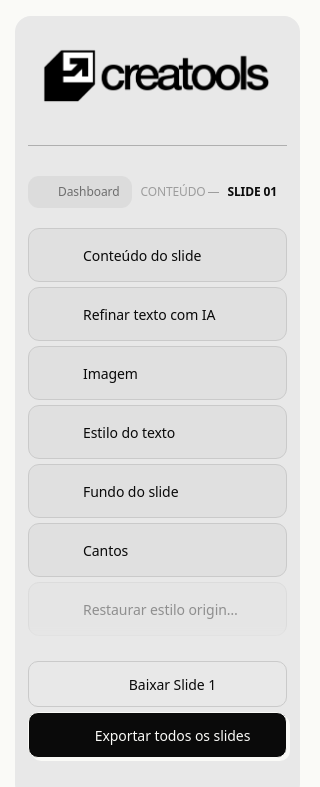
Test: TEMPLATE 1 — painel de imagem › o botão de gerar com IA continua lá mesmo sem imagem
Click the button "Imagem" at (158, 373), box x1=29 y1=347 x2=286 y2=399
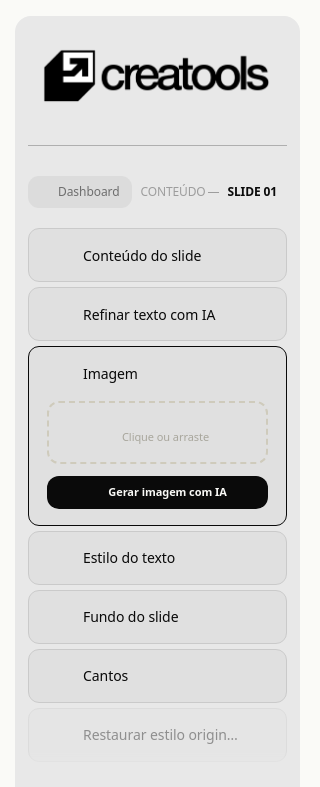
Now the button "Gerar imagem com IA" is shown, box x1=47 y1=476 x2=268 y2=508
